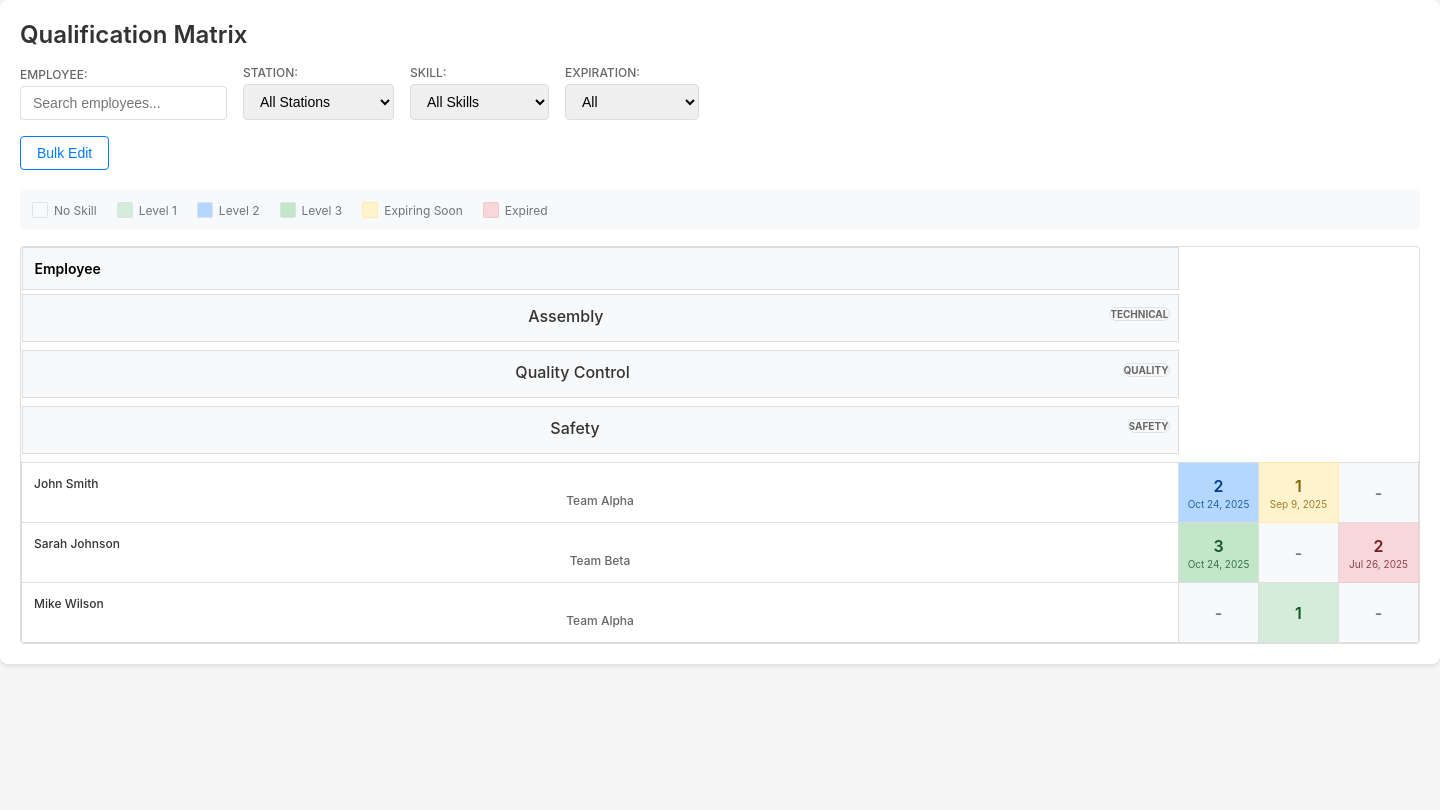
Test: QualificationMatrix › enables bulk edit mode
The width and height of the screenshot is (1440, 810).
Click the button "Bulk Edit" at (65, 153), box [20,136,109,170]
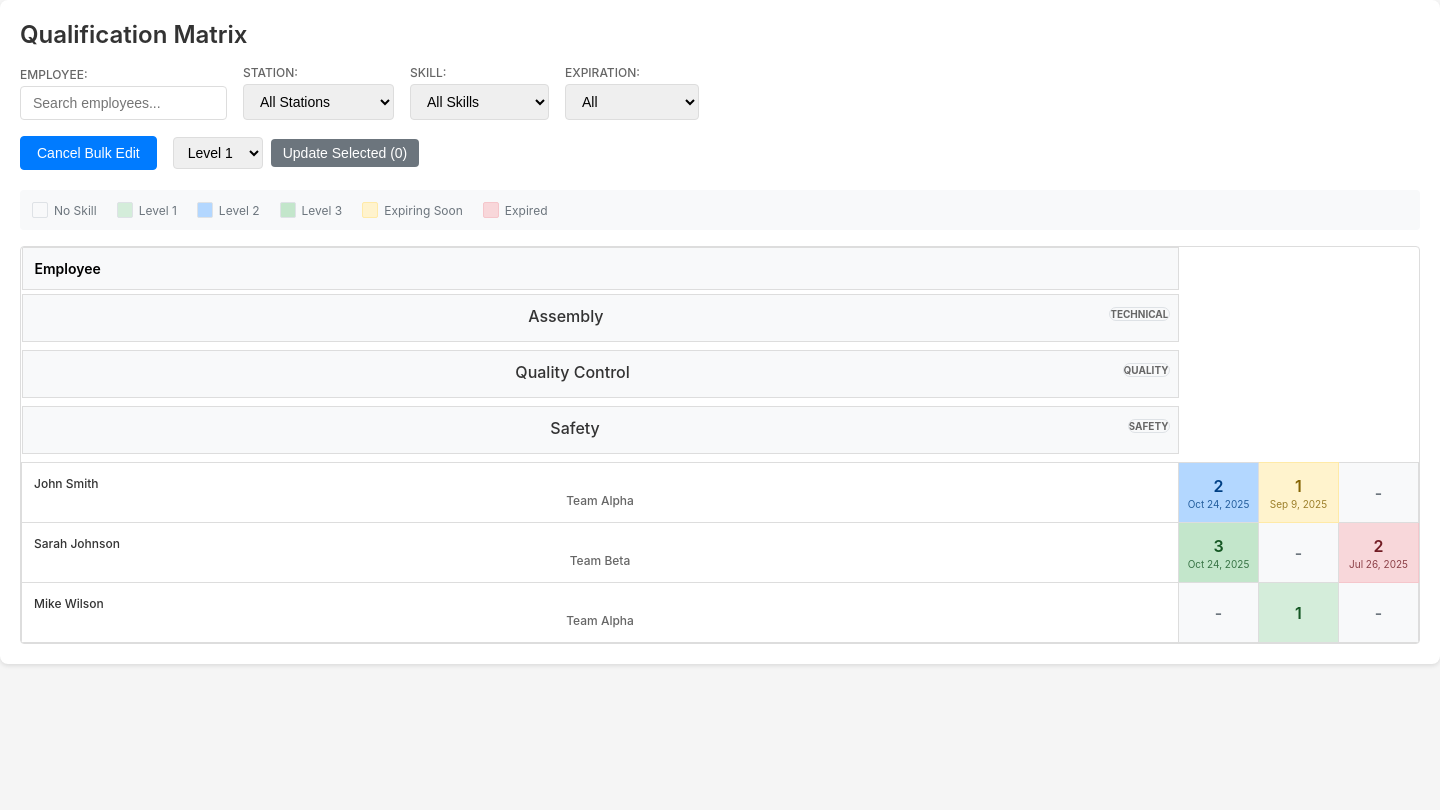
expect the button "Cancel Bulk Edit" is shown: met, box [20,136,157,170]
expect the button "Update Selected (0)" is shown: met, box [271,139,419,167]
